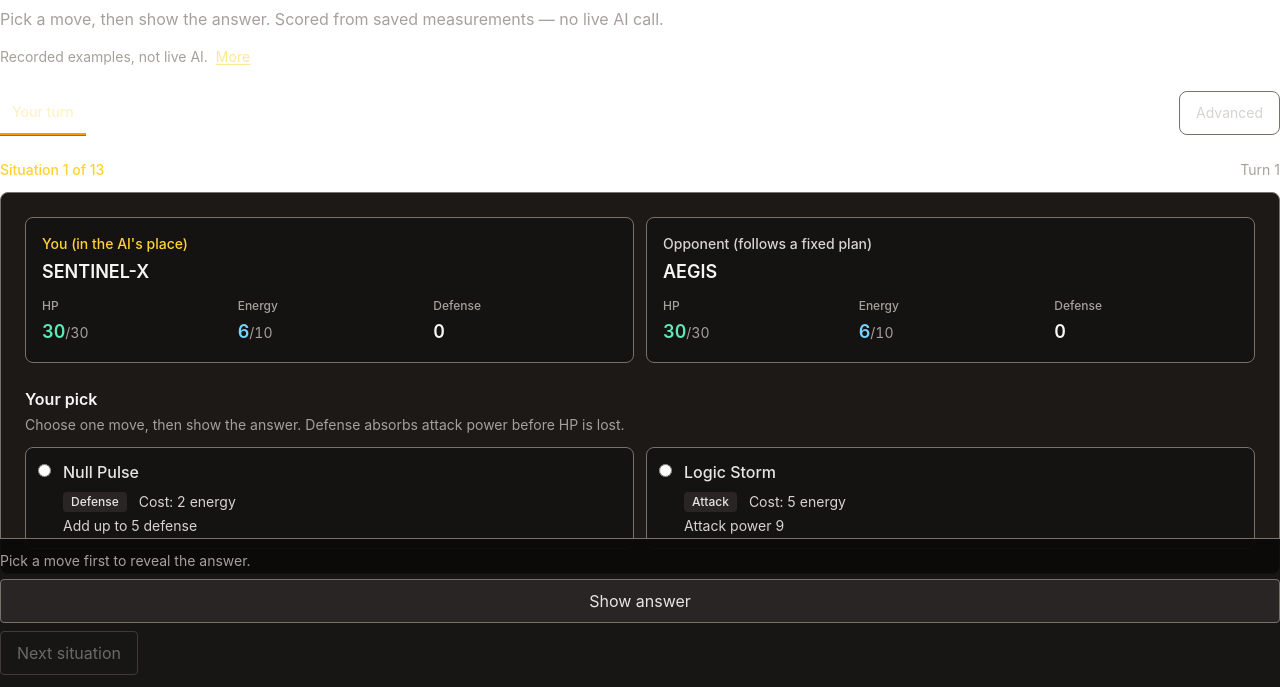
Test case: ComparePanel via DecisionLabView › gemini base vs groq base: 13 matched, 2.00→2.15
The width and height of the screenshot is (1280, 687).
Click the button with test id "lab-advanced-toggle" at (1230, 113), box [1179, 91, 1279, 135]
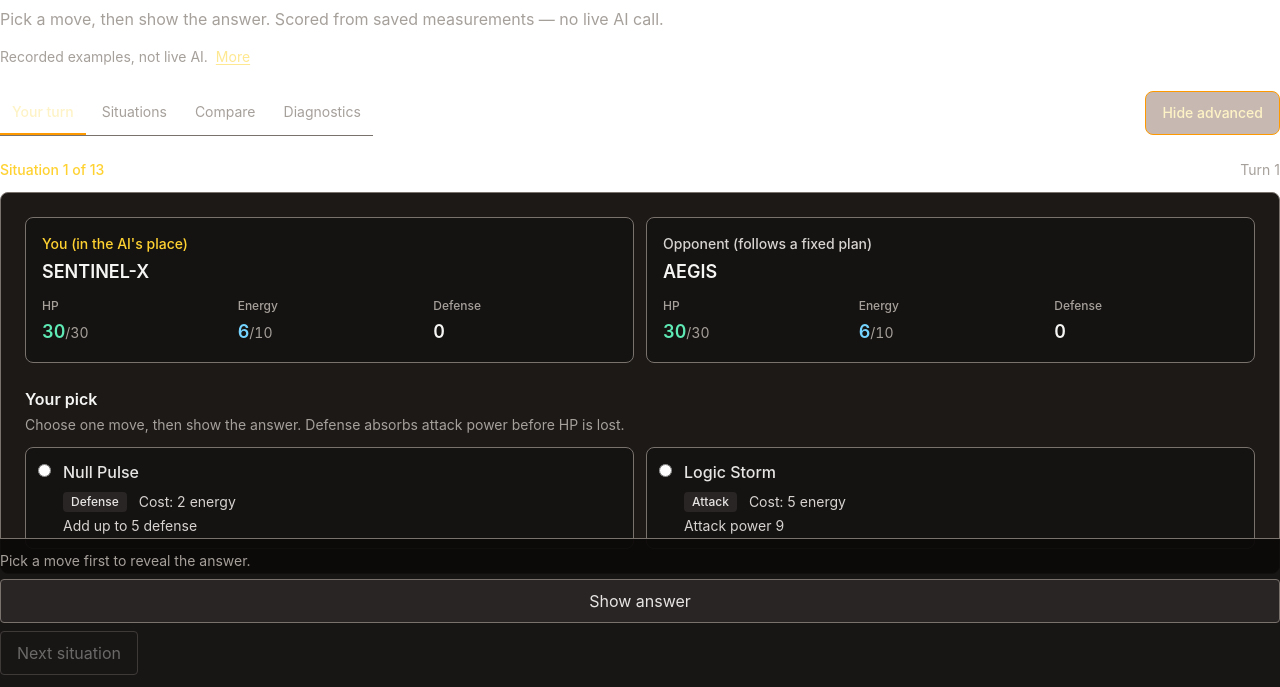
Click the tab "Compare" at (225, 113), box [183, 91, 268, 135]
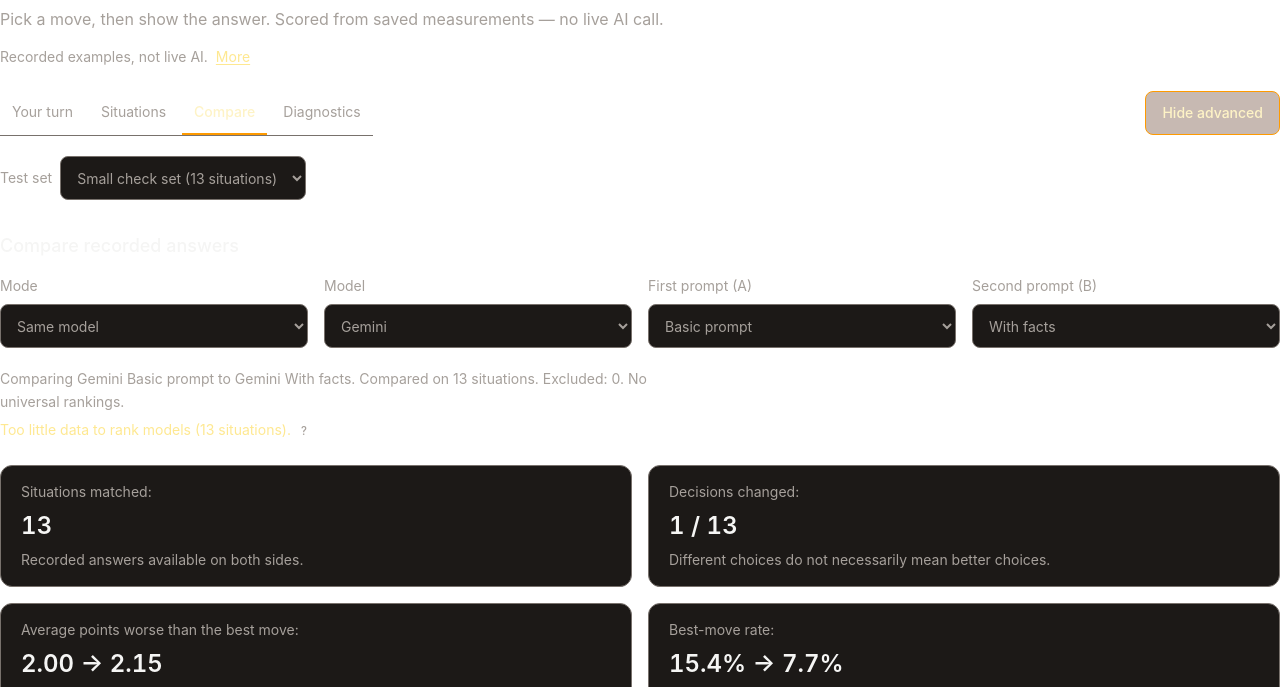
Select "Across models" in the dropdown with test id "compare-mode" at (154, 326), box [0, 304, 308, 348]
(page scrolled)
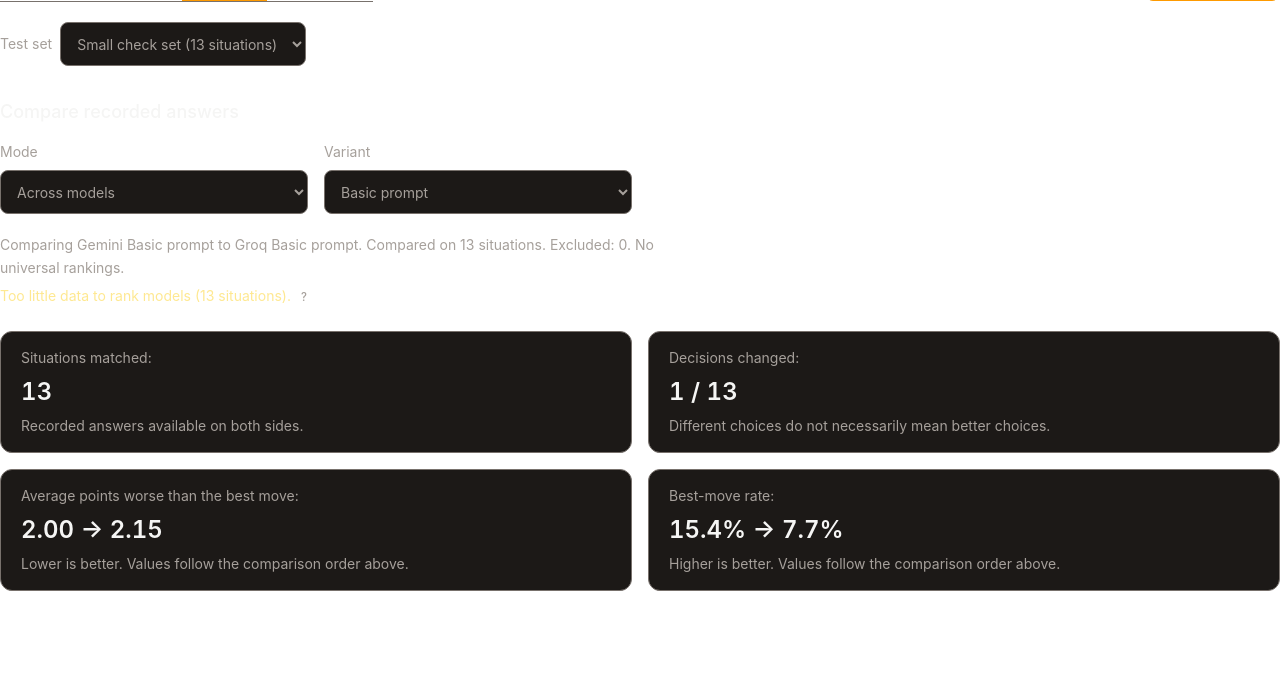
Check: the element with test id "compare-matched" shows "Situations matched: 13", box [0, 331, 632, 453]
Check: the element with test id "compare-mean" shows "2.00 → 2.15", box [0, 469, 632, 591]
Check: the text "Comparing Gemini Basic prompt to Groq Basic prompt" is shown, box [0, 234, 662, 311]
